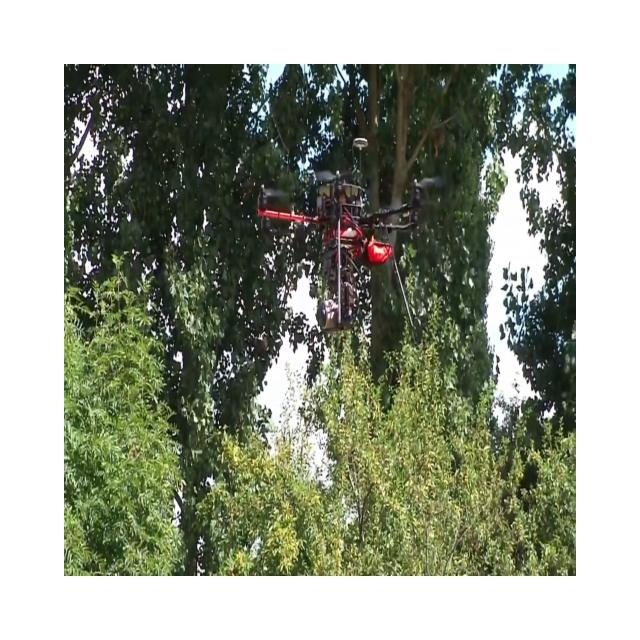drone: (256, 136, 444, 333)
